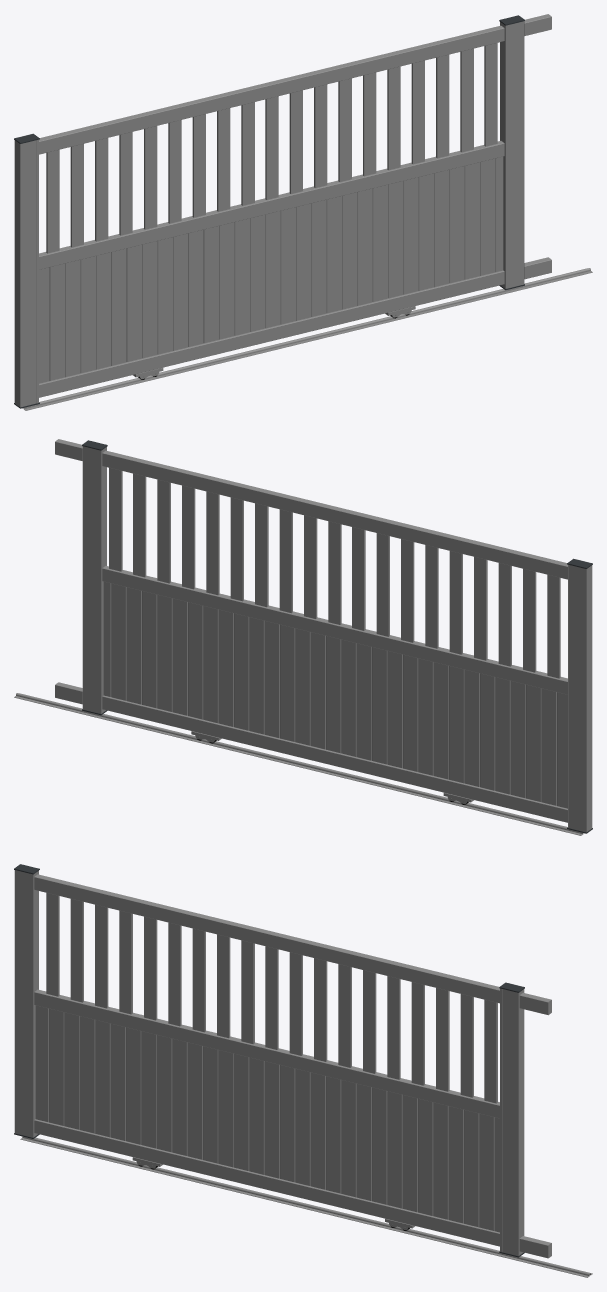
3 renders of one model, top to bottom at view 1: azimuth 30°, elevation 25°; view 2: azimuth 150°, elevation 25°; view 3: azimuth 330°, elevation 25°, orthographic.
Parts seen in each view (by area): view 1: Shape096, Shape107412940, Shape107412941, Shape107412643, Shape107413021, Rail, Shape102, Shape107, Shape097, Shape107412991, Shape110, Shape105 (+44 smaller); view 2: Shape096, Shape107412940, Shape107412941, Shape107412643, Shape107413021, Rail, Shape107412980, Shape099, Shape102, Shape110, Shape105, Shape107412983 (+44 smaller); view 3: Shape096, Shape107412941, Shape107412940, Shape107413021, Shape107412643, Rail, Shape099, Shape104, Shape109, Shape107412982, Shape107412987, Shape107412990 (+44 smaller).
Part boxes in pixels (x1=…): Shape096: x1=39, y1=14, x2=551, y2=154; Shape107412940: x1=39, y1=141, x2=504, y2=269; Shape107412941: x1=39, y1=257, x2=551, y2=397; Shape107412643: x1=14, y1=139, x2=38, y2=407; Shape107413021: x1=500, y1=21, x2=524, y2=288; Rail: x1=23, y1=268, x2=592, y2=410; Shape102: x1=126, y1=245, x2=142, y2=361; Shape107: x1=203, y1=226, x2=219, y2=343; Shape097: x1=49, y1=263, x2=65, y2=380; Shape107412991: x1=464, y1=162, x2=479, y2=279; Shape110: x1=250, y1=214, x2=265, y2=331; Shape105: x1=173, y1=233, x2=188, y2=350; Shape096: x1=55, y1=439, x2=567, y2=579; Shape107412940: x1=102, y1=566, x2=567, y2=694; Shape107412941: x1=55, y1=682, x2=567, y2=822; Shape107412643: x1=568, y1=564, x2=592, y2=832; Shape107413021: x1=82, y1=446, x2=106, y2=713; Rail: x1=14, y1=693, x2=583, y2=835; Shape107412980: x1=295, y1=628, x2=310, y2=745; Shape099: x1=510, y1=681, x2=525, y2=798; Shape102: x1=464, y1=669, x2=479, y2=786; Shape110: x1=341, y1=639, x2=356, y2=756; Shape105: x1=418, y1=658, x2=433, y2=775; Shape107412983: x1=249, y1=617, x2=264, y2=734; Shape096: x1=34, y1=874, x2=551, y2=1015; Shape107412941: x1=34, y1=1119, x2=551, y2=1258; Shape107412940: x1=34, y1=989, x2=499, y2=1118; Shape107413021: x1=500, y1=988, x2=524, y2=1255; Shape107412643: x1=14, y1=870, x2=38, y2=1137; Rail: x1=20, y1=1136, x2=592, y2=1277; Shape099: x1=79, y1=1016, x2=95, y2=1133; Shape104: x1=156, y1=1035, x2=172, y2=1152; Shape109: x1=233, y1=1054, x2=249, y2=1170; Shape107412982: x1=326, y1=1076, x2=341, y2=1193; Shape107412987: x1=402, y1=1095, x2=417, y2=1212; Shape107412990: x1=448, y1=1106, x2=463, y2=1223.
Size of the model in its own units: 3638 by 1636 by 70.
Materials: 6 (2 with a texture image).
